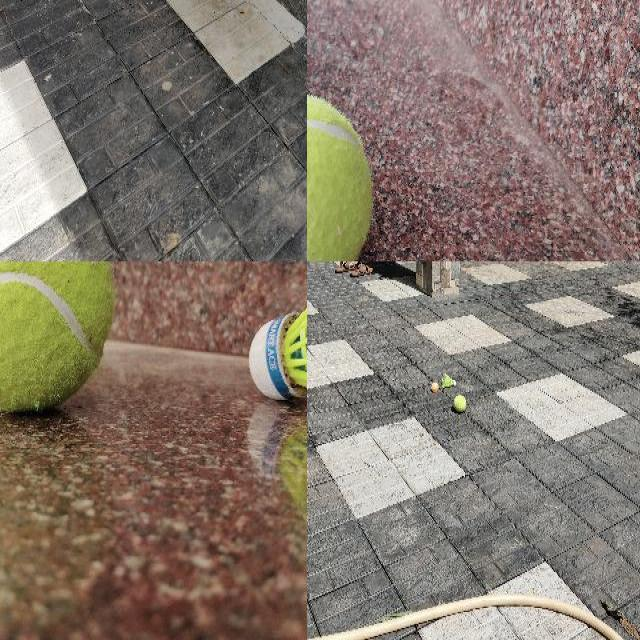ping-pong-ball: (430, 382, 438, 390)
